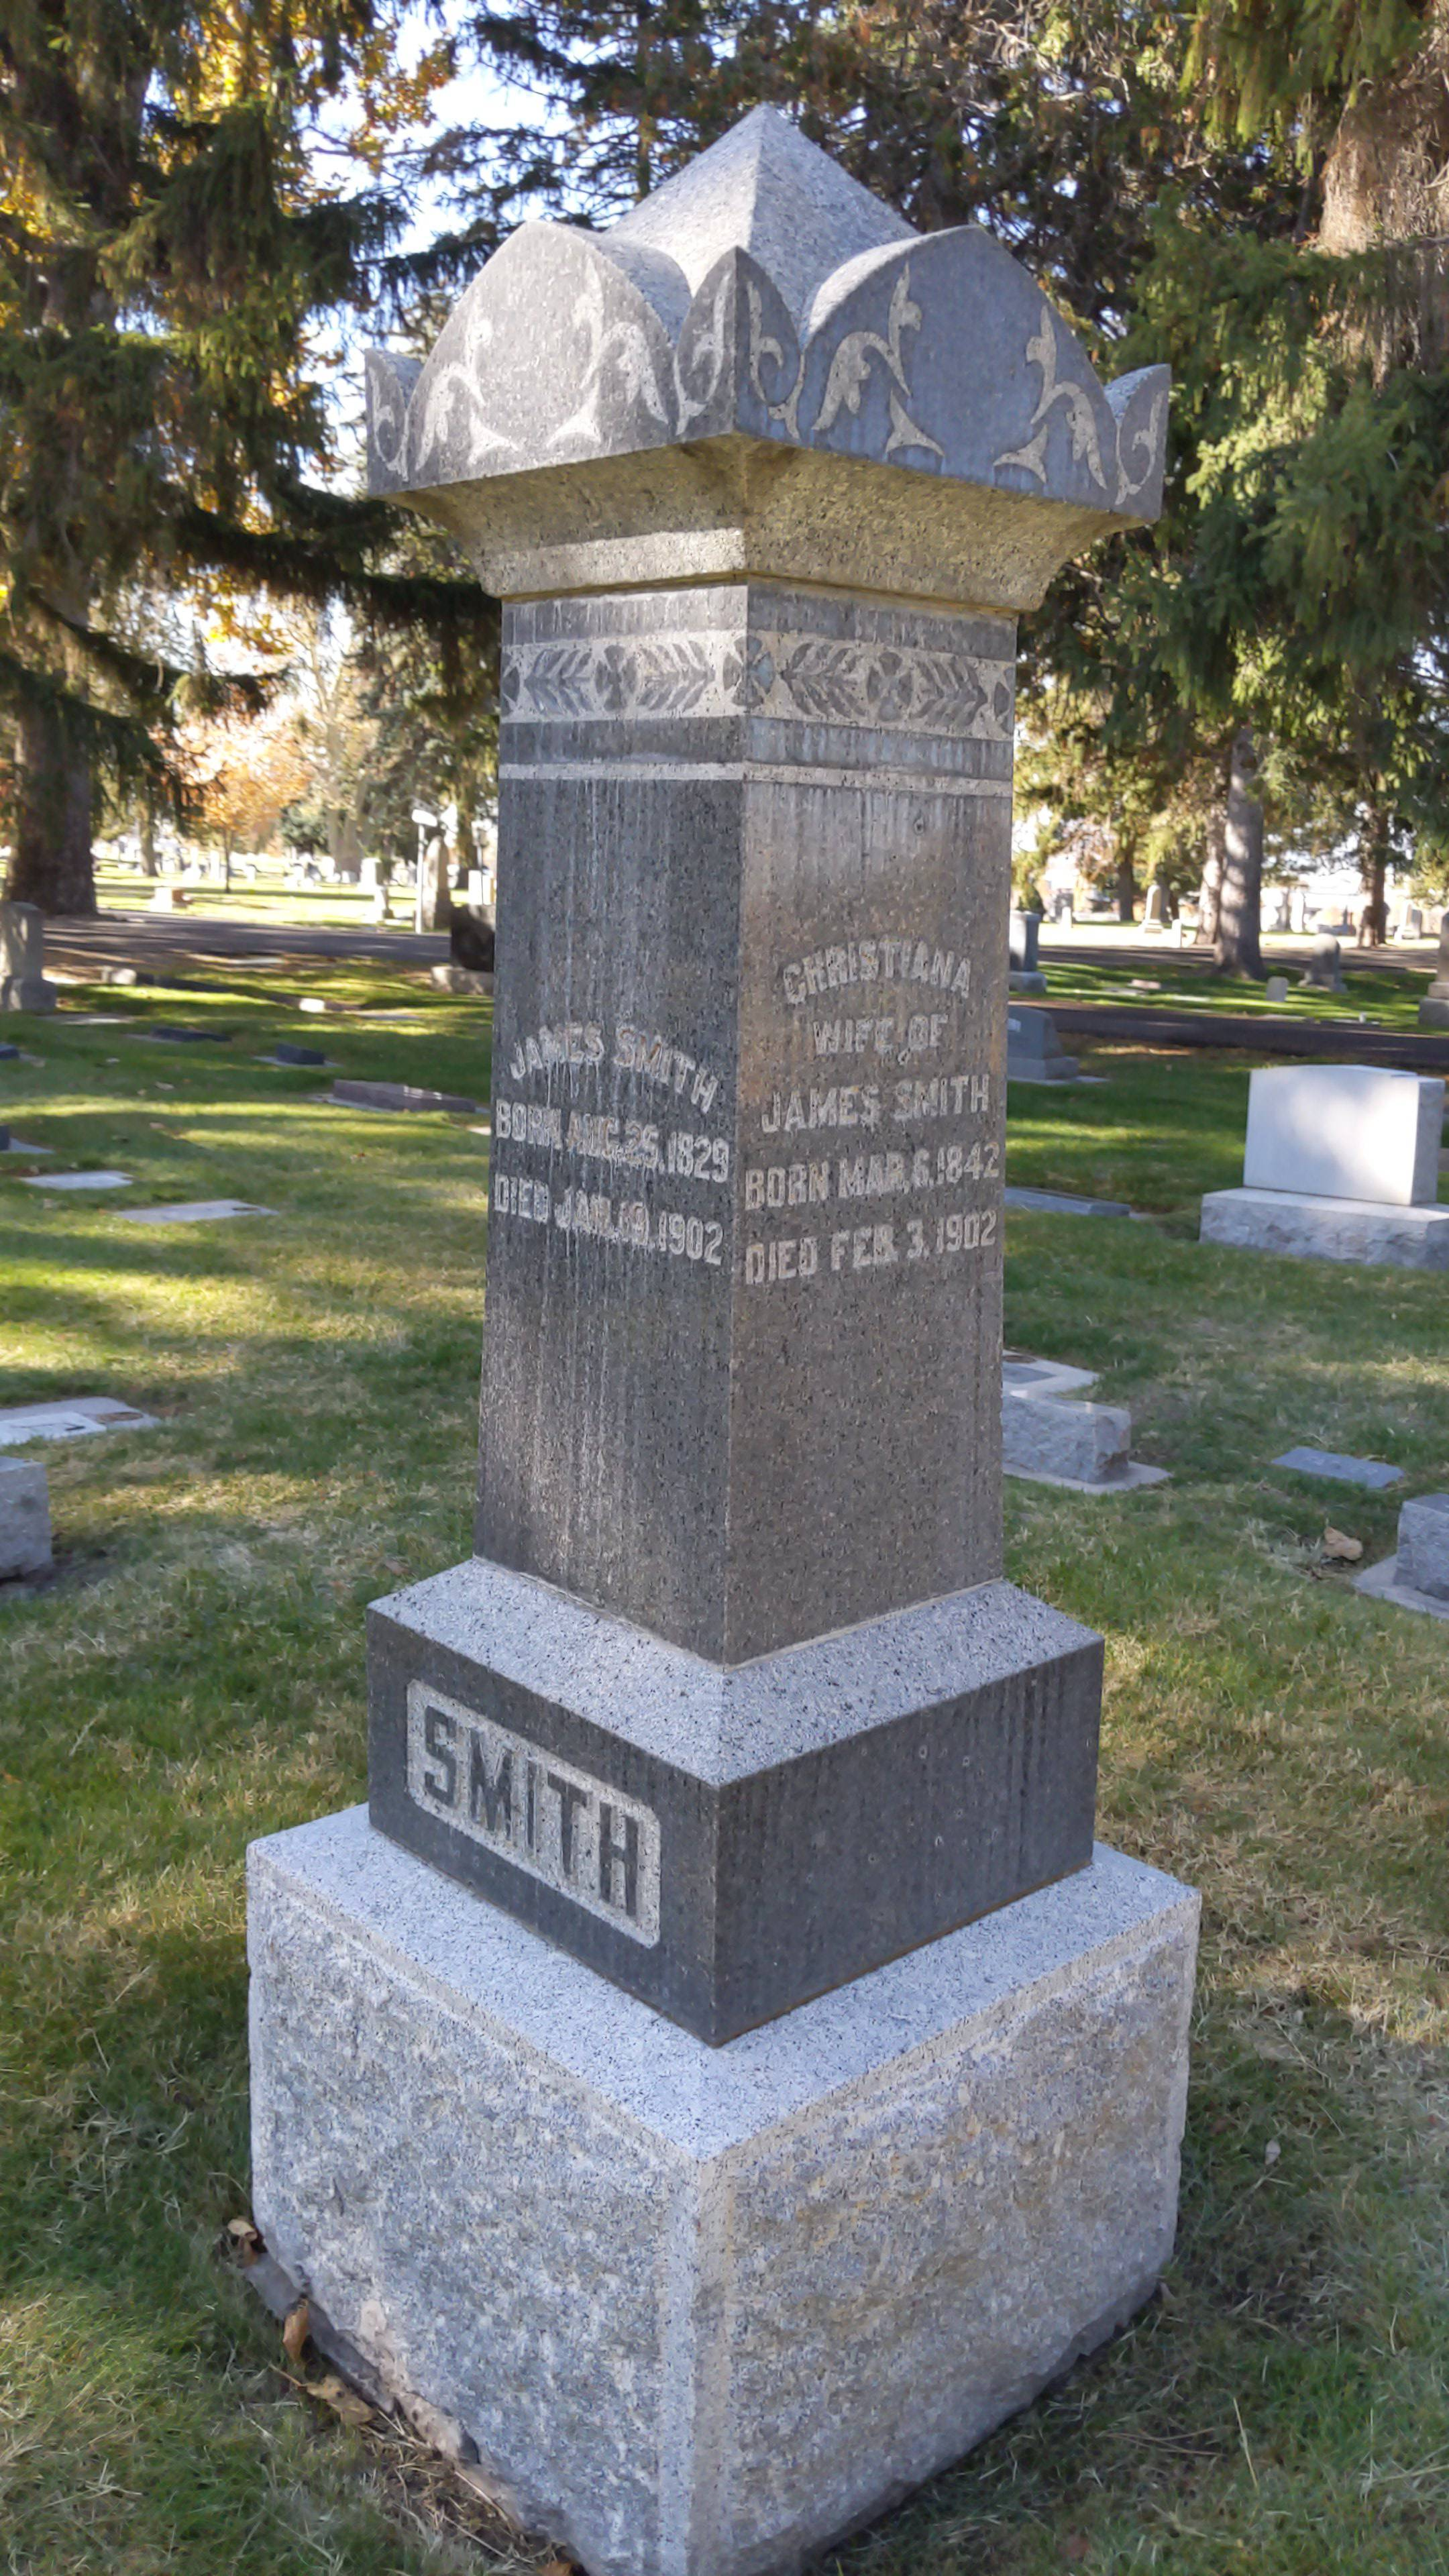obelisk: (382, 111, 1102, 2043)
